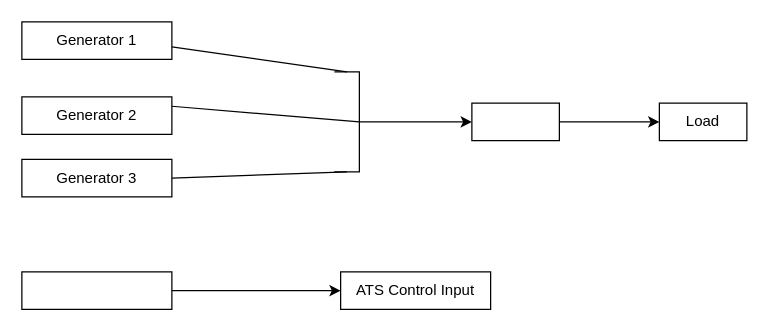
Some shapes in this 769 by 331 pixel diagram are drawn without their labels. Here are the shapes that lost their labels. From the top down, the centre of each, then its label:
At (515,121): "ATS".
At (96,290): "Microcontroller/PLC".
